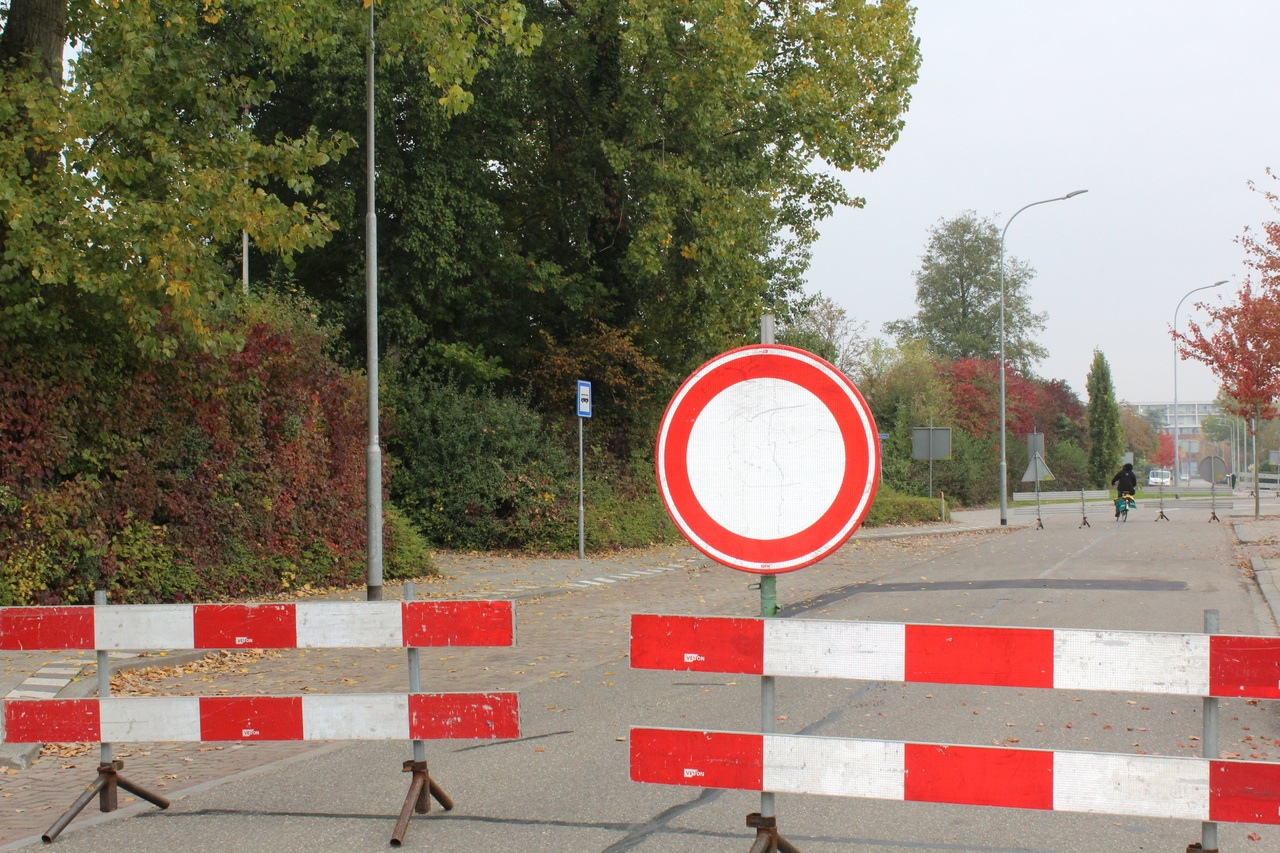Arbol: (12, 1, 343, 588)
Cartel: (642, 340, 889, 574)
Poste: (350, 1, 392, 608)
Valla: (615, 601, 1280, 849), (7, 595, 531, 853)
